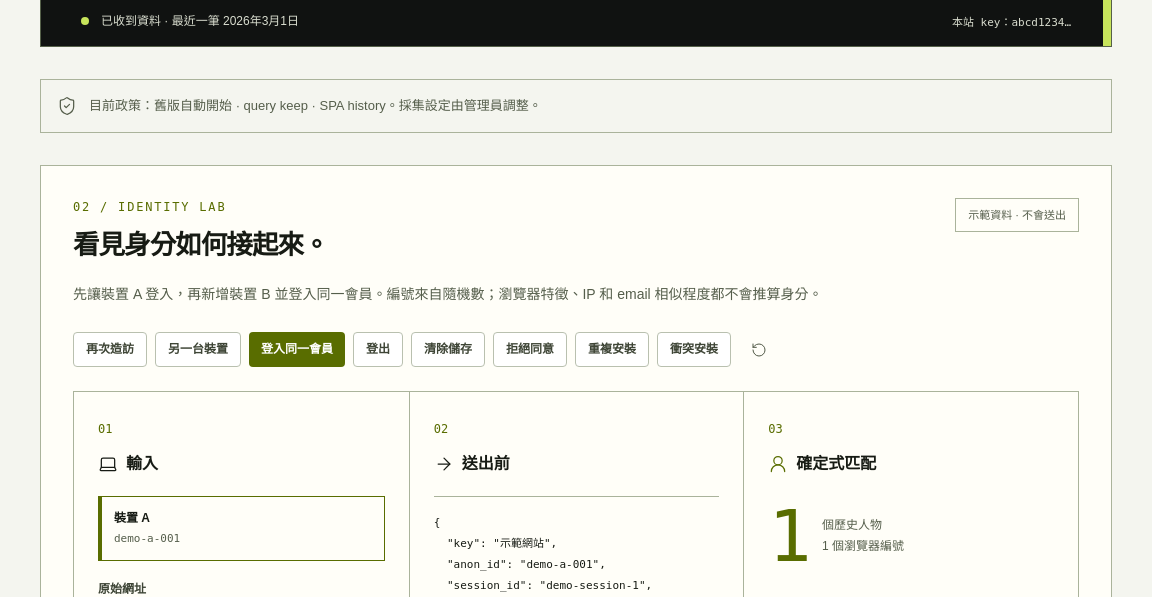
Test: 模擬器拒絕期間不建立編號，再次同意從新匿名開始
(page scrolled)
Click the button "登入同一會員": click(297, 350) [249,332,345,367]
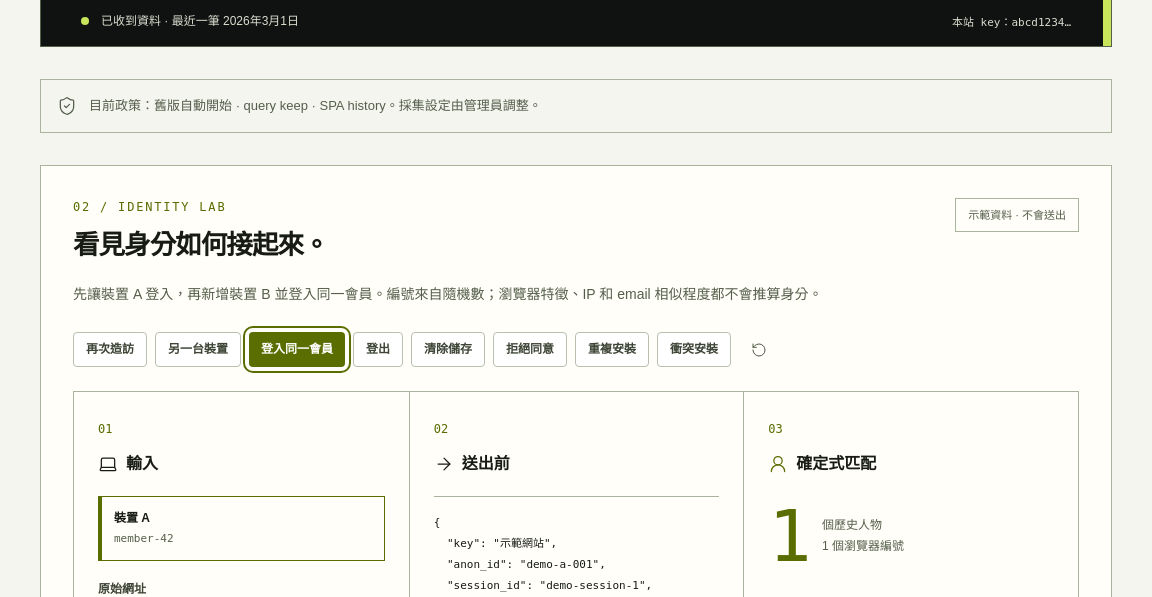
Click the button "拒絕同意": click(530, 350) [493,332,567,367]
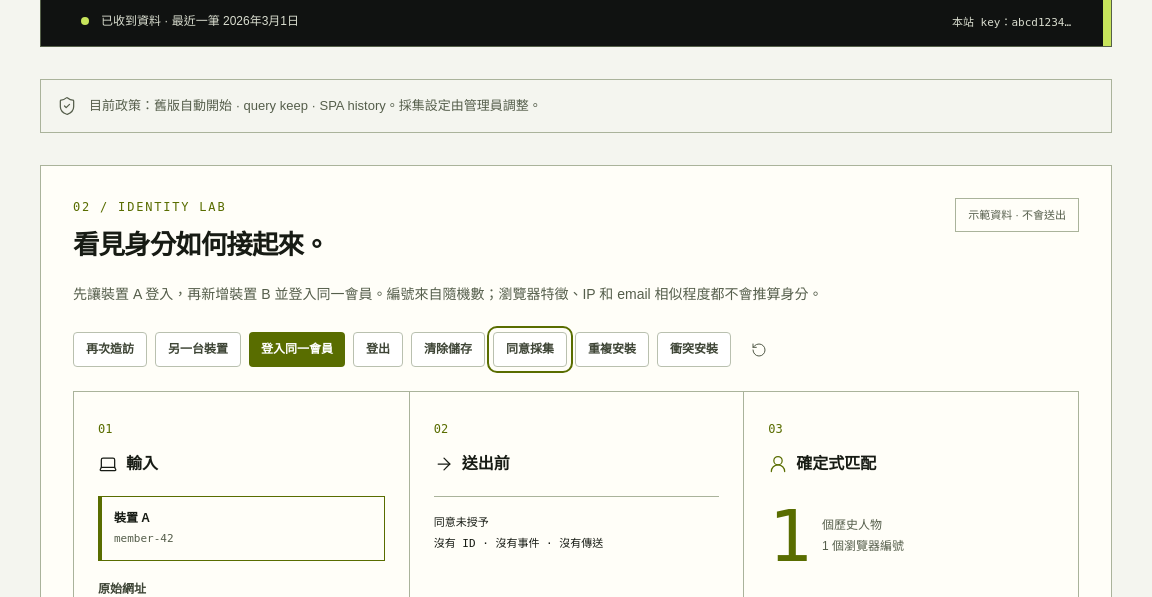
Click the button "另一台裝置": click(198, 350) [155,332,241,367]
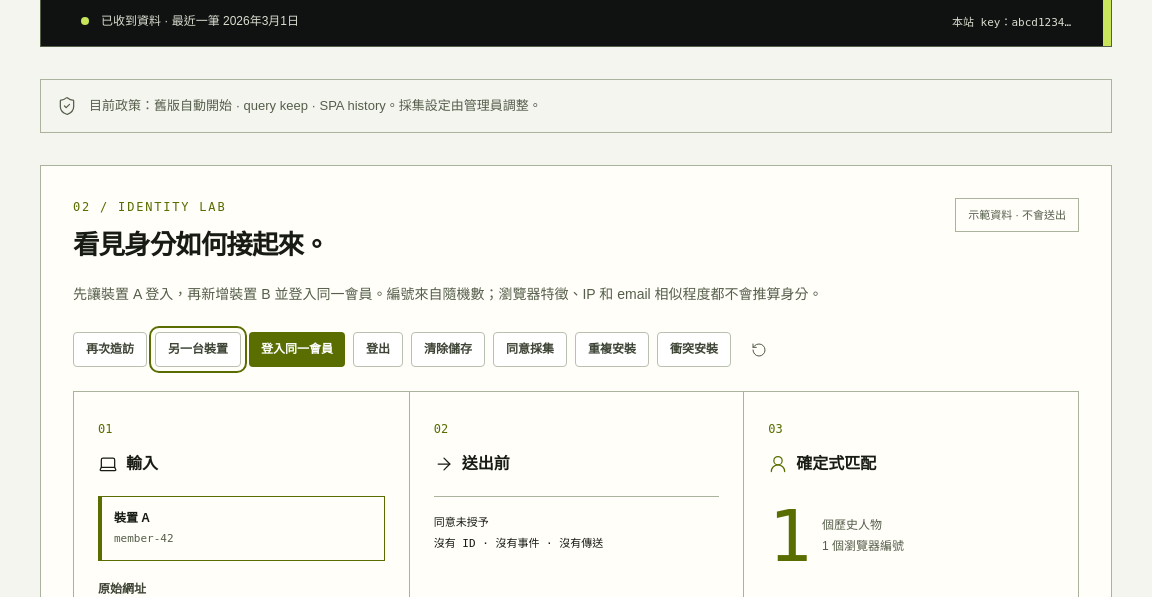
Expected: the text named "模擬人物數" reads "1", [768,494,806,578]
Now the text named "模擬 payload" shows "沒有 ID", box [434,516,603,550]
Click the button "同意採集": click(530, 350) [493,332,567,367]
(page scrolled)
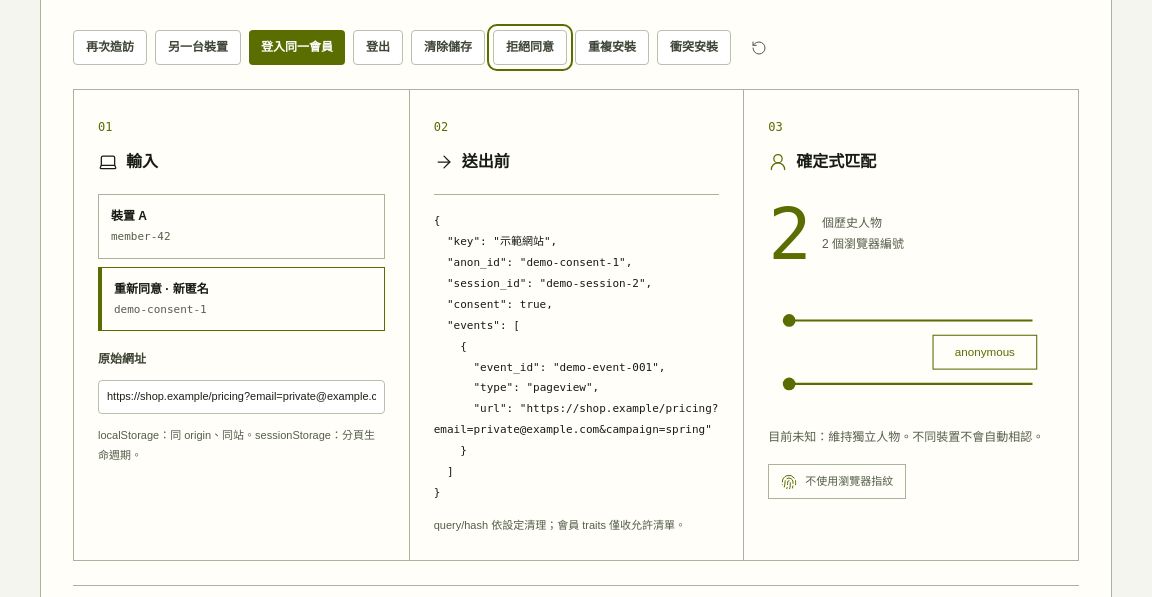
Now the text named "模擬 payload" does not show "\"identify\"", box [434,194,719,504]
Now the text named "模擬 payload" shows "demo-consent", box [434,214,718,499]
